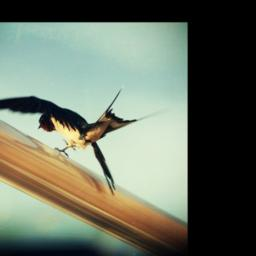Swallow: (0, 86, 168, 196)
